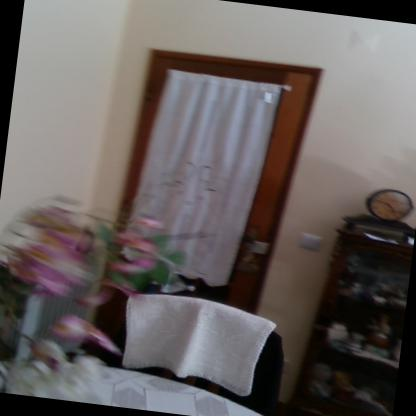closed: (92, 38, 334, 378)
